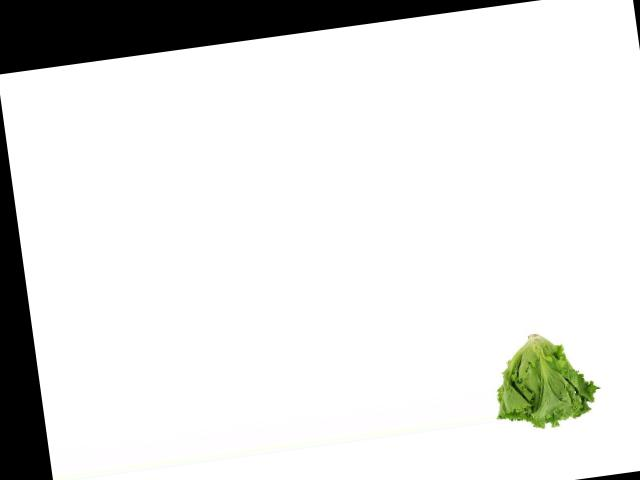lettuce: (485, 324, 599, 439)
